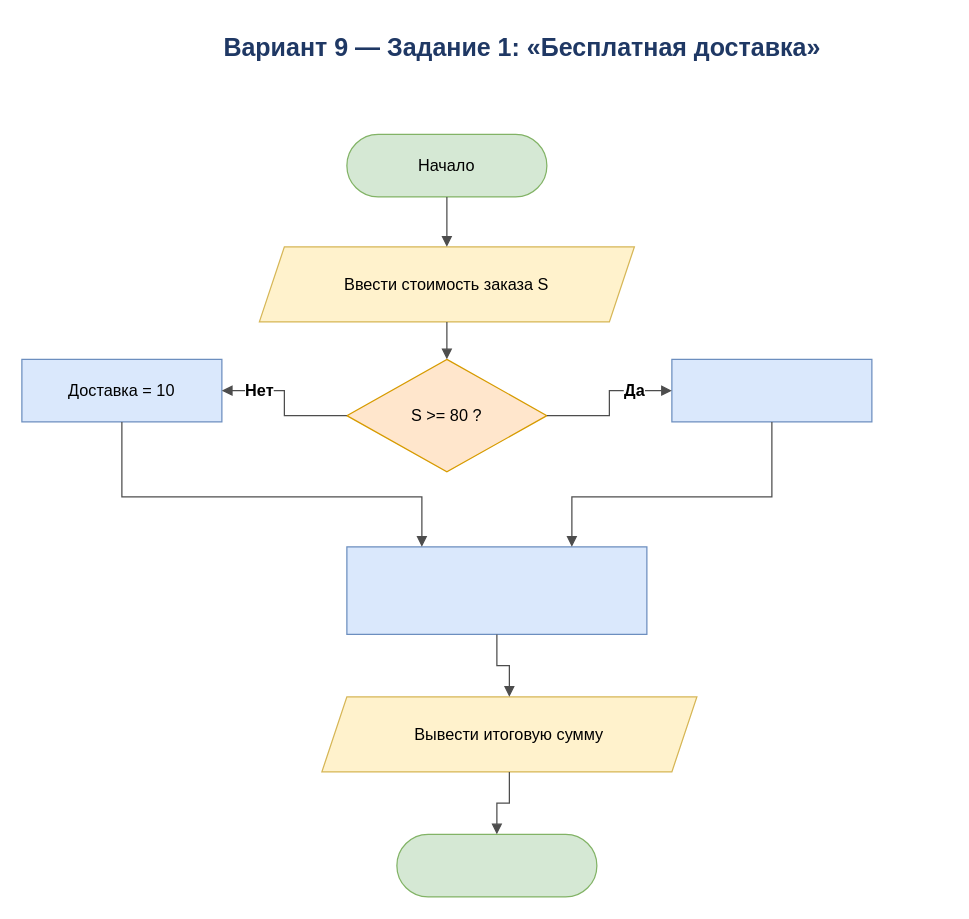
Image size: 969x919. Some labels were removed from this diagram. Here are the shapes that lost their labels. From the top down, the box of each, then its label:
(671, 358, 872, 422): Доставка = 0
(346, 546, 647, 634): Итог = S + Доставка
(396, 833, 597, 897): Конец
